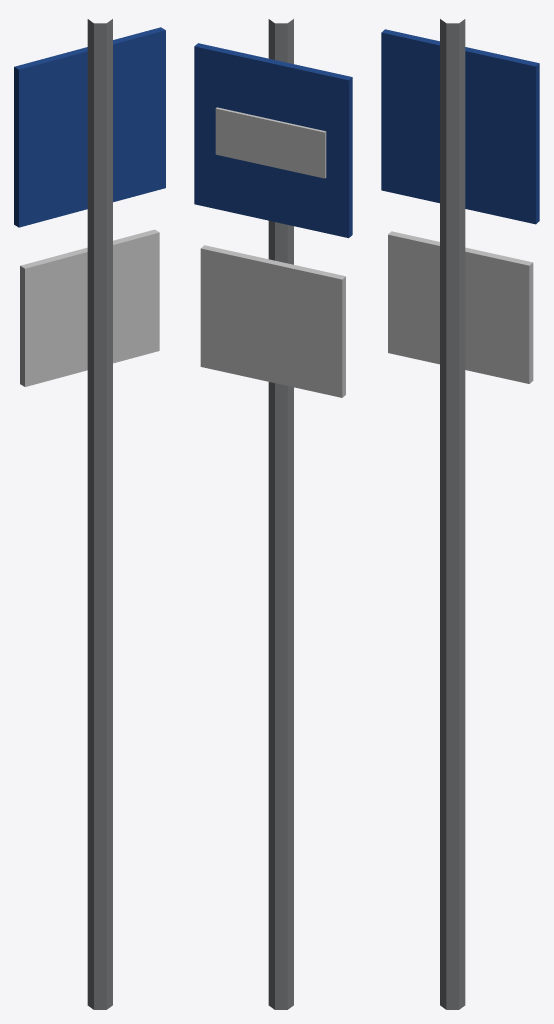
The model's file is zastavky.glb.
3 renders of one model, left to right at view 1: azimuth 30°, elevation 25°; view 2: azimuth 150°, elevation 25°; view 3: azimuth 330°, elevation 25°, orthographic.
Size of the model in its own units: 0.4814 by 3 by 0.113.
